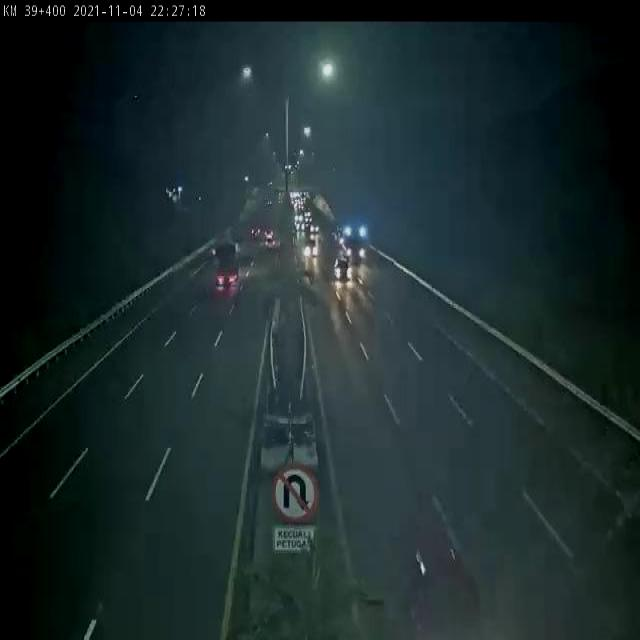Car: (333, 256, 353, 280), (264, 233, 276, 250)
Truck: (215, 241, 241, 286), (341, 221, 370, 260)
